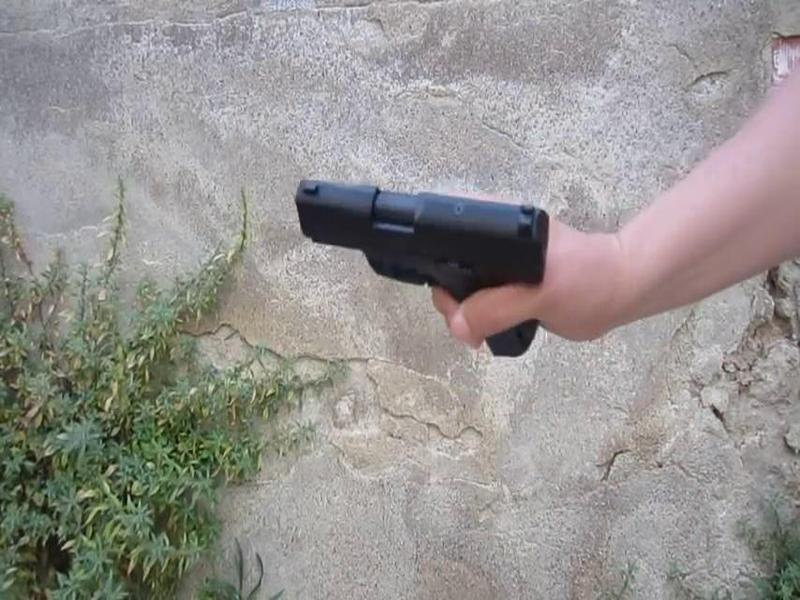Pistola: (257, 151, 587, 384)
